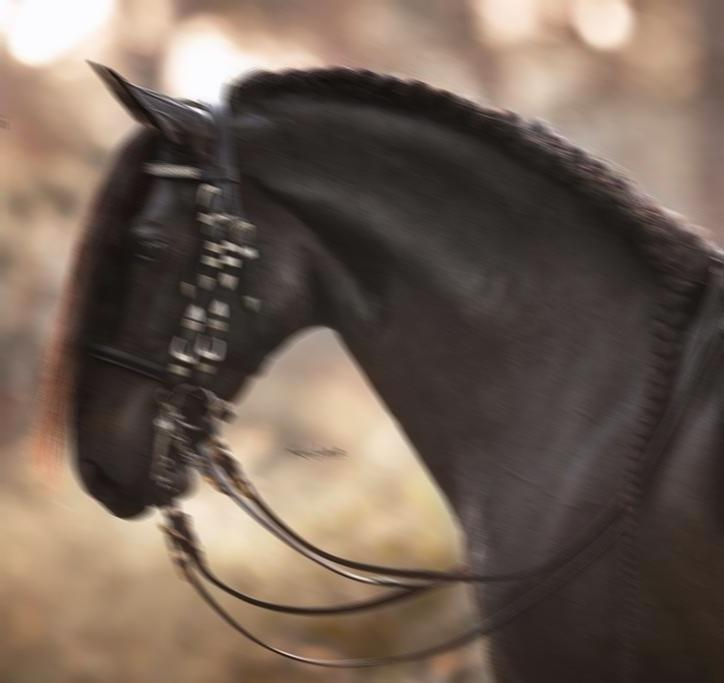horse: (25, 59, 724, 681)
